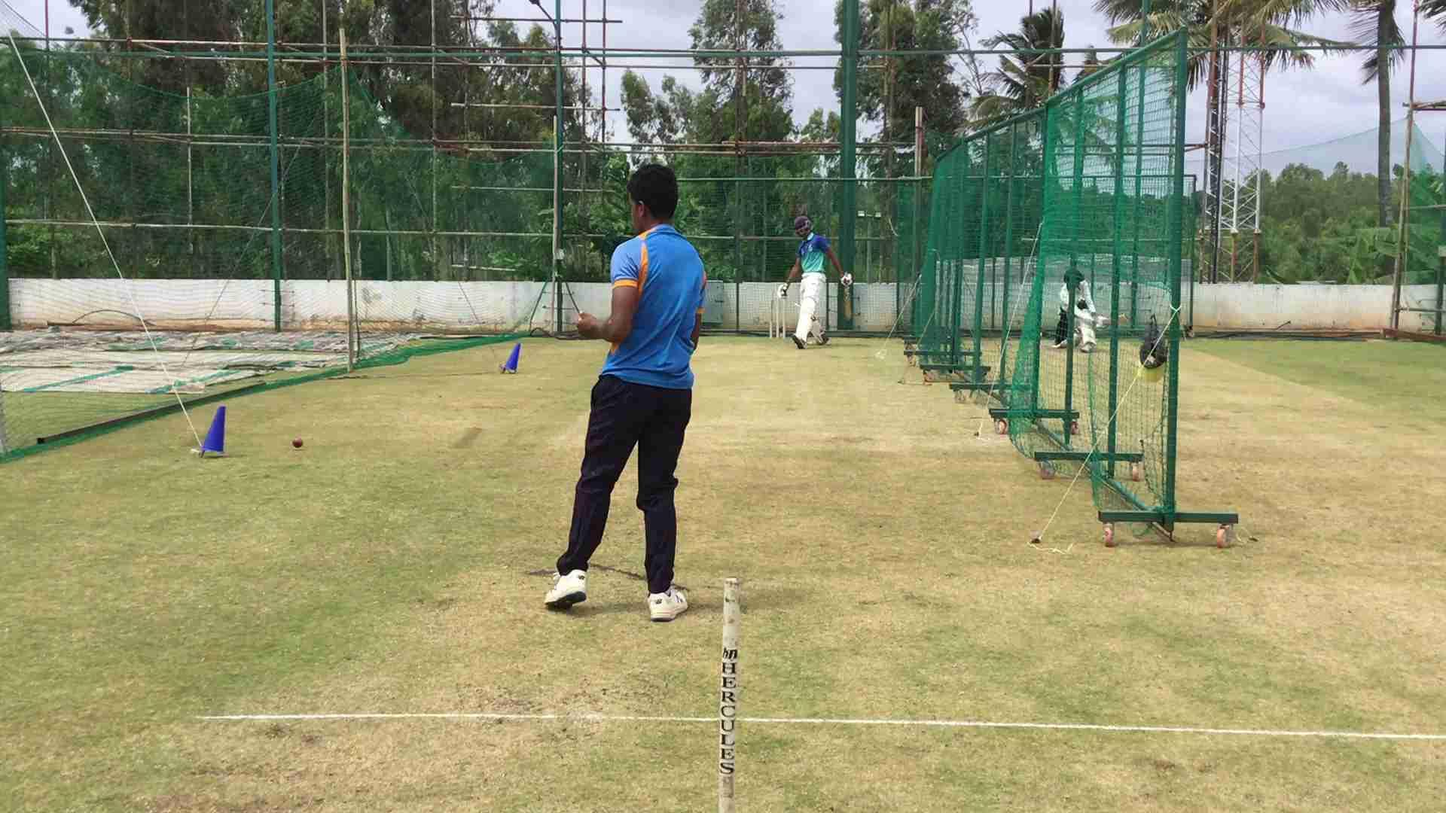batsman: (771, 208, 857, 353)
